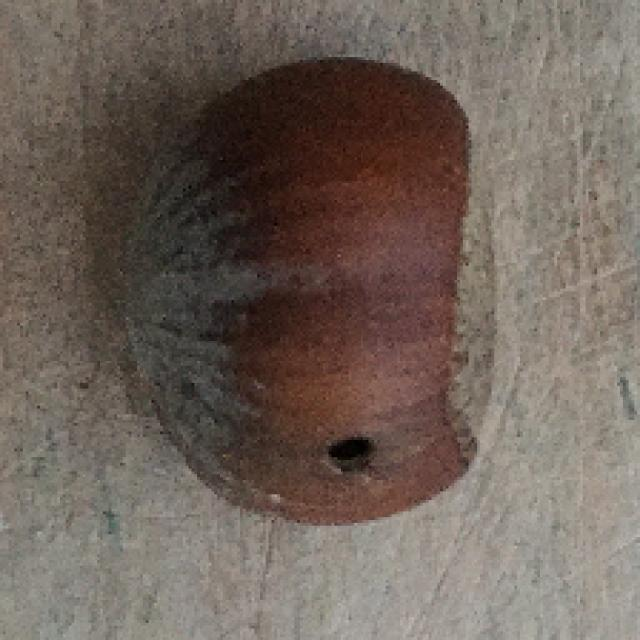DamagedHazelnut: (119, 64, 497, 524)
